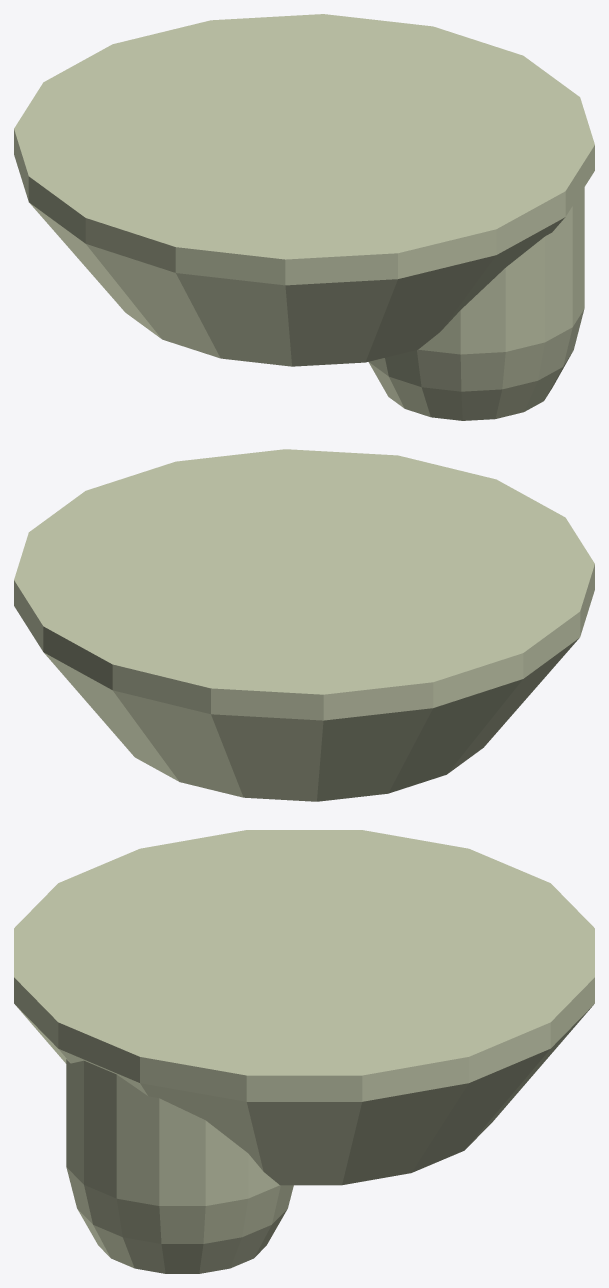
Rendered from RLV_Mount_1_Collider.obj.
3 views of the same model, one above another, from view 1: azimuth 30°, elevation 25°; view 2: azimuth 150°, elevation 25°; view 3: azimuth 270°, elevation 25° (orthographic).
Parts seen in each view (by area): view 1: RLV_Mount_1_Collider_1, RLV_Mount_1_Collider_2; view 2: RLV_Mount_1_Collider_1; view 3: RLV_Mount_1_Collider_1, RLV_Mount_1_Collider_2.
Part boxes in pixels (x1,y1,x2,y2): RLV_Mount_1_Collider_1: [14, 14, 594, 366]; RLV_Mount_1_Collider_2: [368, 187, 584, 420]; RLV_Mount_1_Collider_1: [14, 449, 594, 801]; RLV_Mount_1_Collider_1: [14, 830, 594, 1185]; RLV_Mount_1_Collider_2: [66, 1059, 293, 1273].
Bounding box in the file's own units: 5 × 2.22 × 5.
